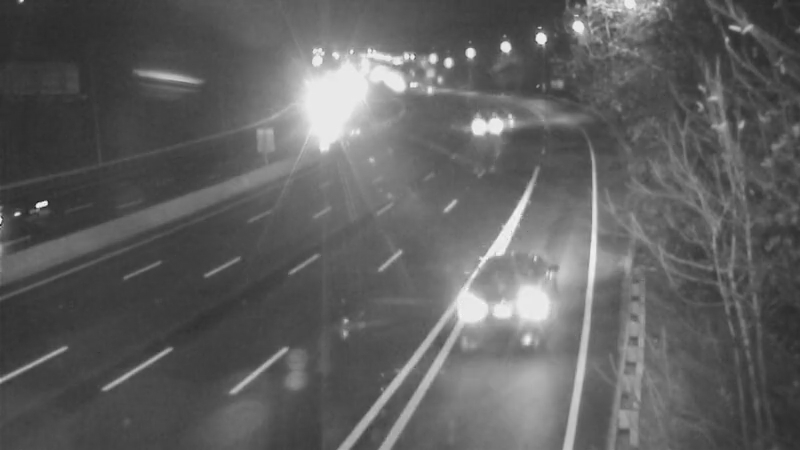vehicle: (482, 243, 562, 323), (1, 168, 73, 248), (407, 66, 457, 116), (452, 95, 502, 145)
